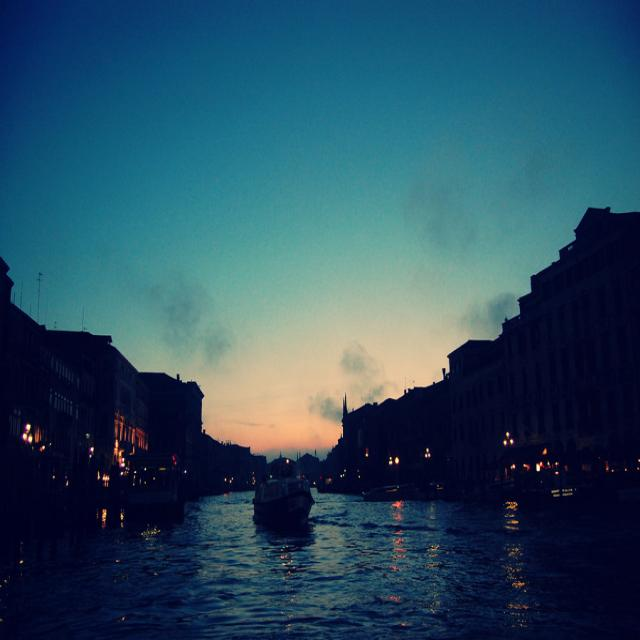Boat: (111, 450, 199, 526), (244, 457, 318, 547)
